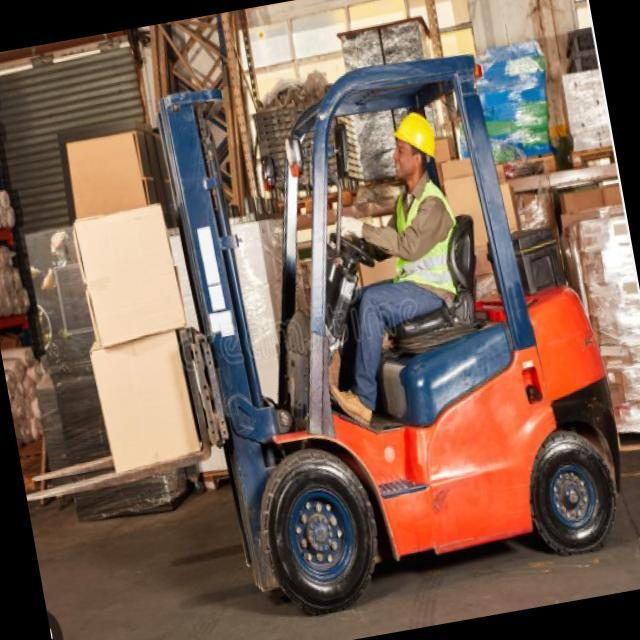boots: (319, 365, 384, 441)
helmet: (380, 101, 443, 185)
vest: (379, 167, 468, 310)
